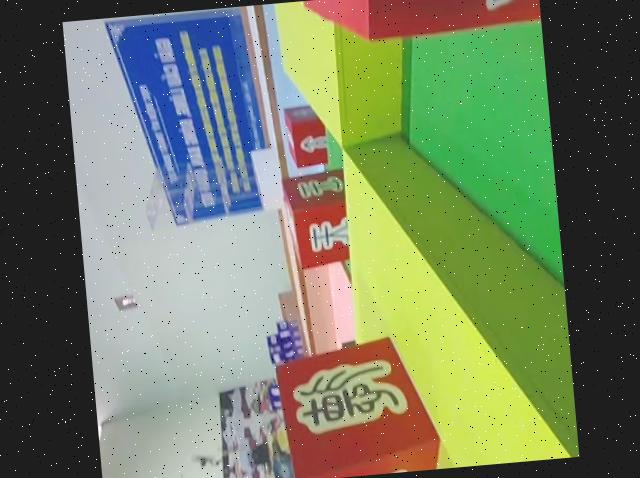R1: (297, 0, 541, 44)
R2 Fake: (269, 332, 443, 478)
R2 Real: (279, 168, 368, 271), (282, 104, 330, 170)
